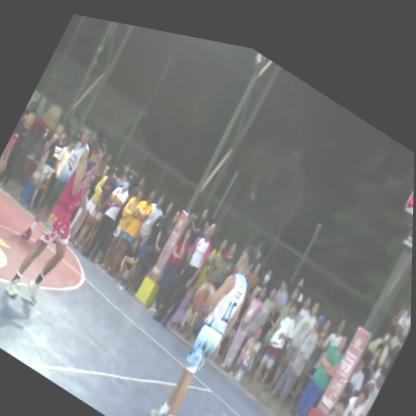basketball: (187, 259, 223, 318)
